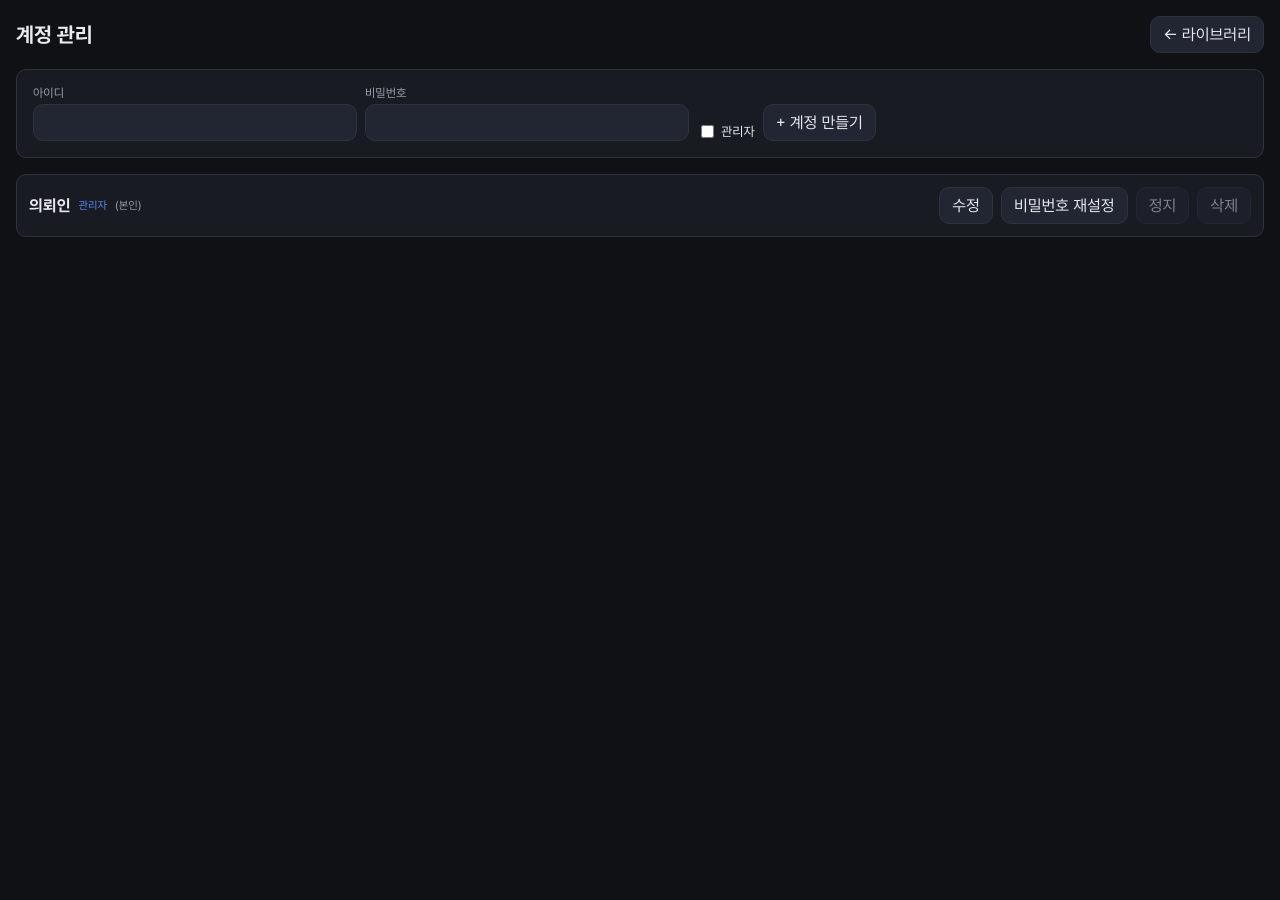
it: AdminScreen › 본인 행의 수정 모달에서는 관리자 체크박스가 비활성화된다
Expected: the text "의뢰인" is shown, [29, 196, 70, 215]
Click the button "수정" at (966, 206), box [939, 187, 993, 224]
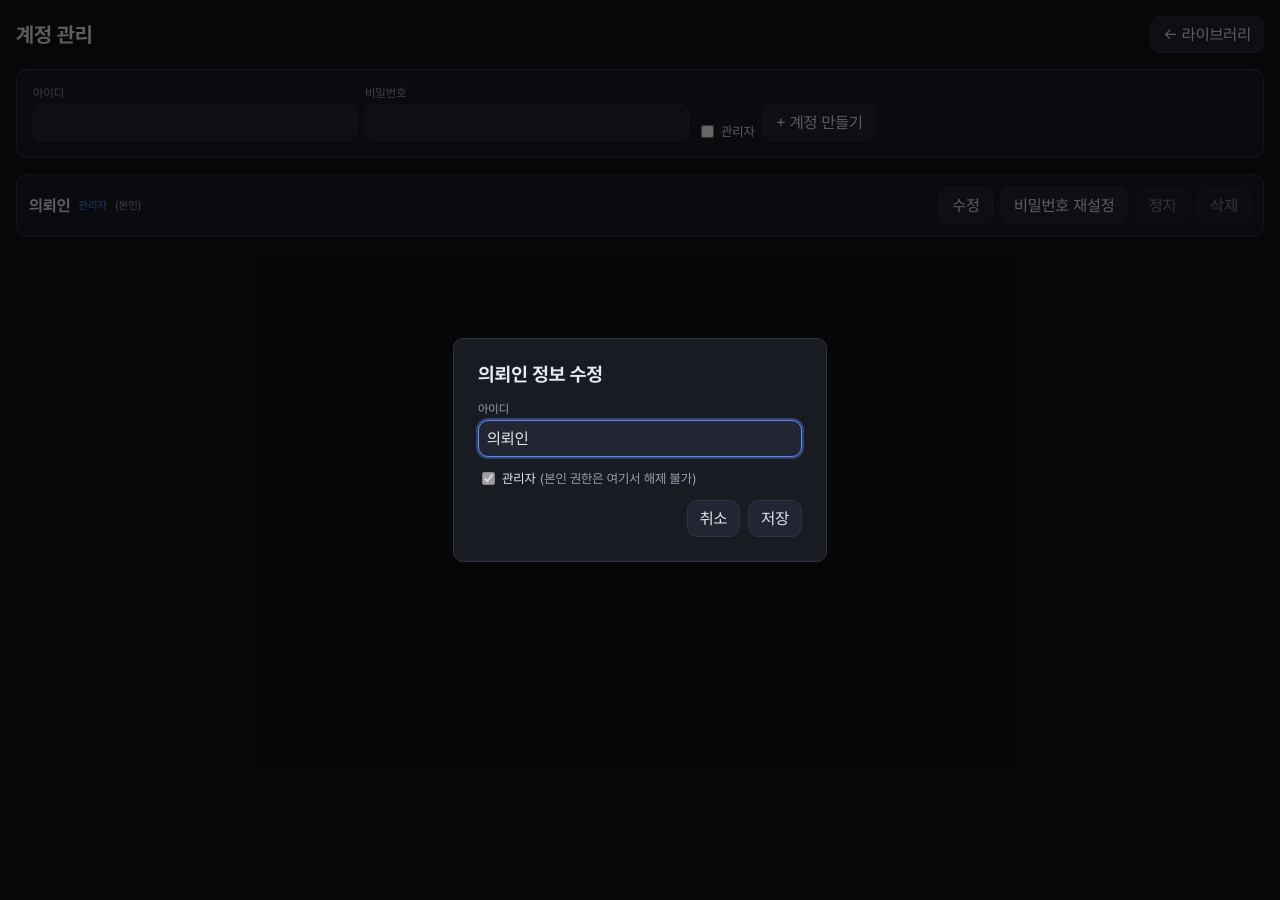
Result: the checkbox is disabled at [482, 472, 495, 485]
